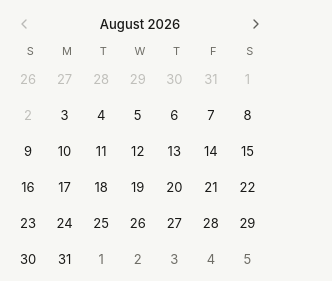
Scenario: SessionStartTimeCalendar › navigates forward a month and back
This screenshot has width=332, height=281.
Click the button named "Next month" at (256, 24), box [244,12,268,36]
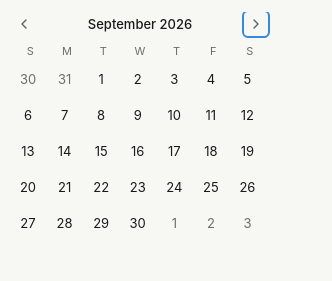
expect the text "September 2026" is shown: met, box [88,15,192,33]
Click the button named "Previous month" at (24, 24), box [12,12,36,36]
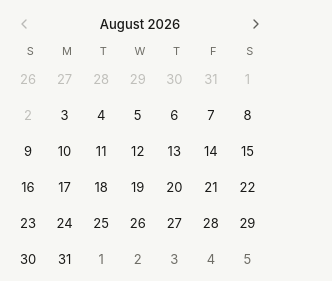
expect the text "August 2026" is shown: met, box [100,15,180,33]
